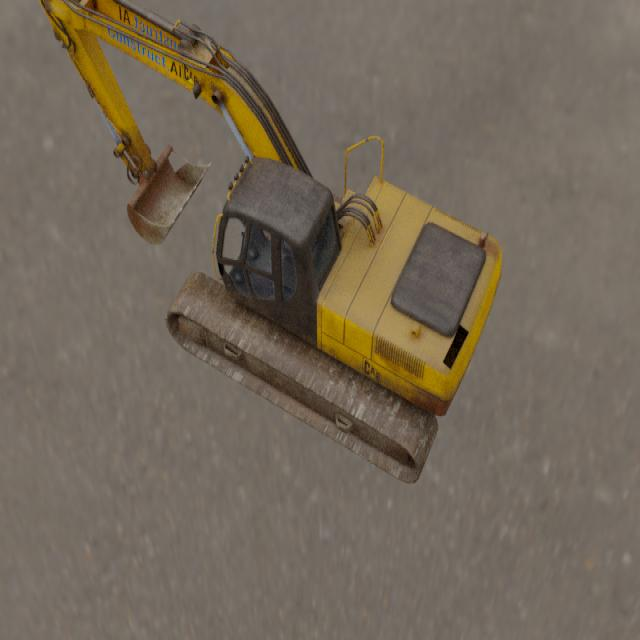excavator: (38, 0, 502, 485)
